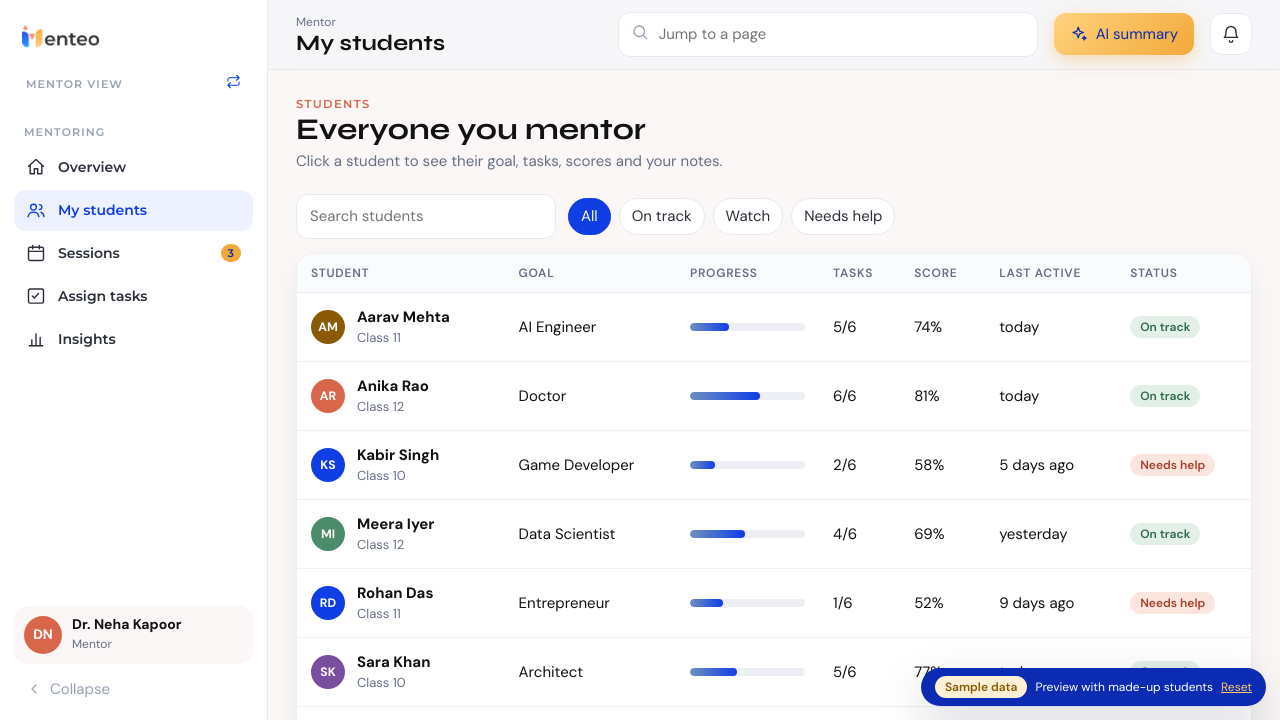
Test: platform dashboards › lets a mentor open a student and save a note
The width and height of the screenshot is (1280, 720).
Click the text "Kabir Singh" at (398, 455), box x1=357 y1=445 x2=439 y2=465
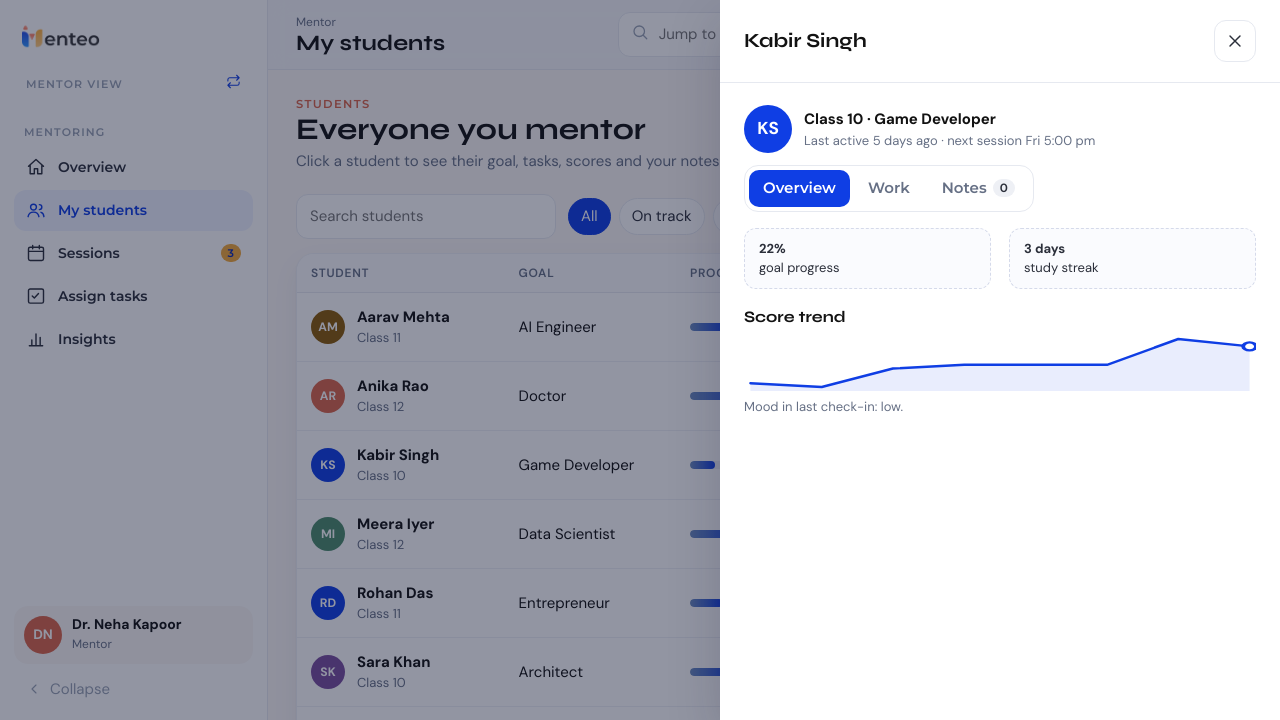
Click the tab "Notes 0" at (978, 188), box x1=928 y1=170 x2=1029 y2=206
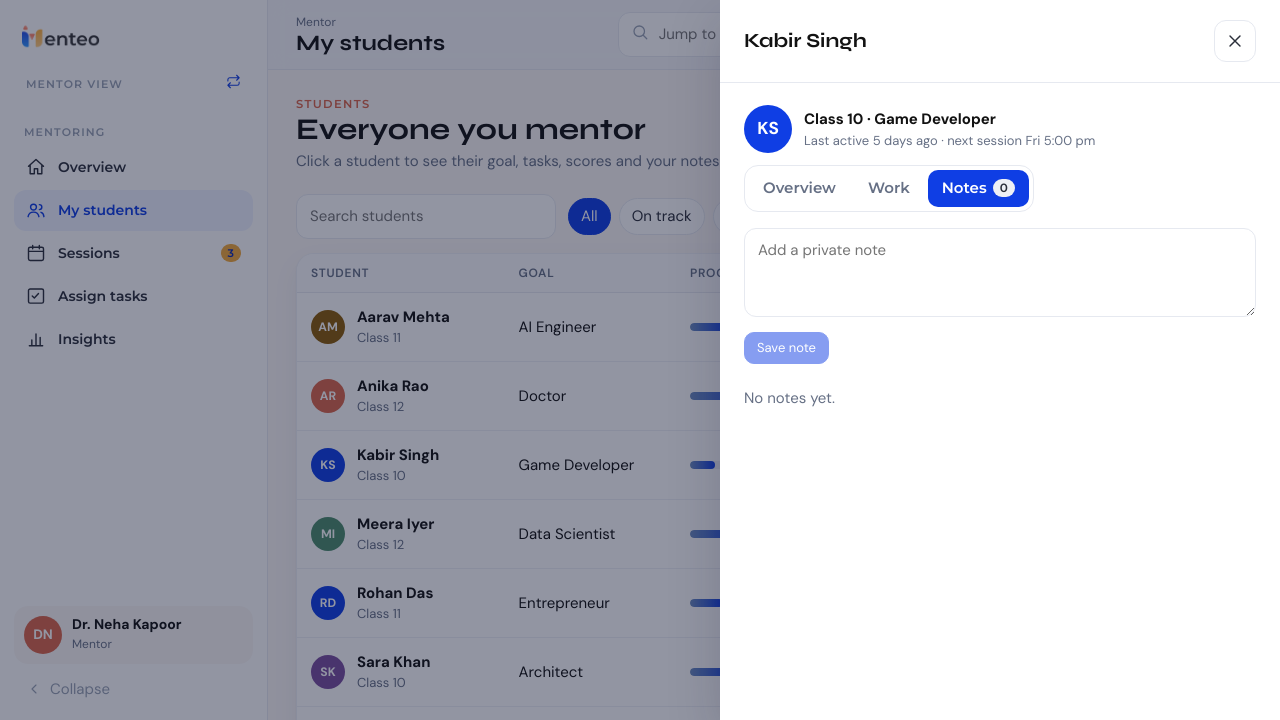
Type "Call parents" into the text box named "new note" at (1000, 272), box x1=744 y1=228 x2=1256 y2=317
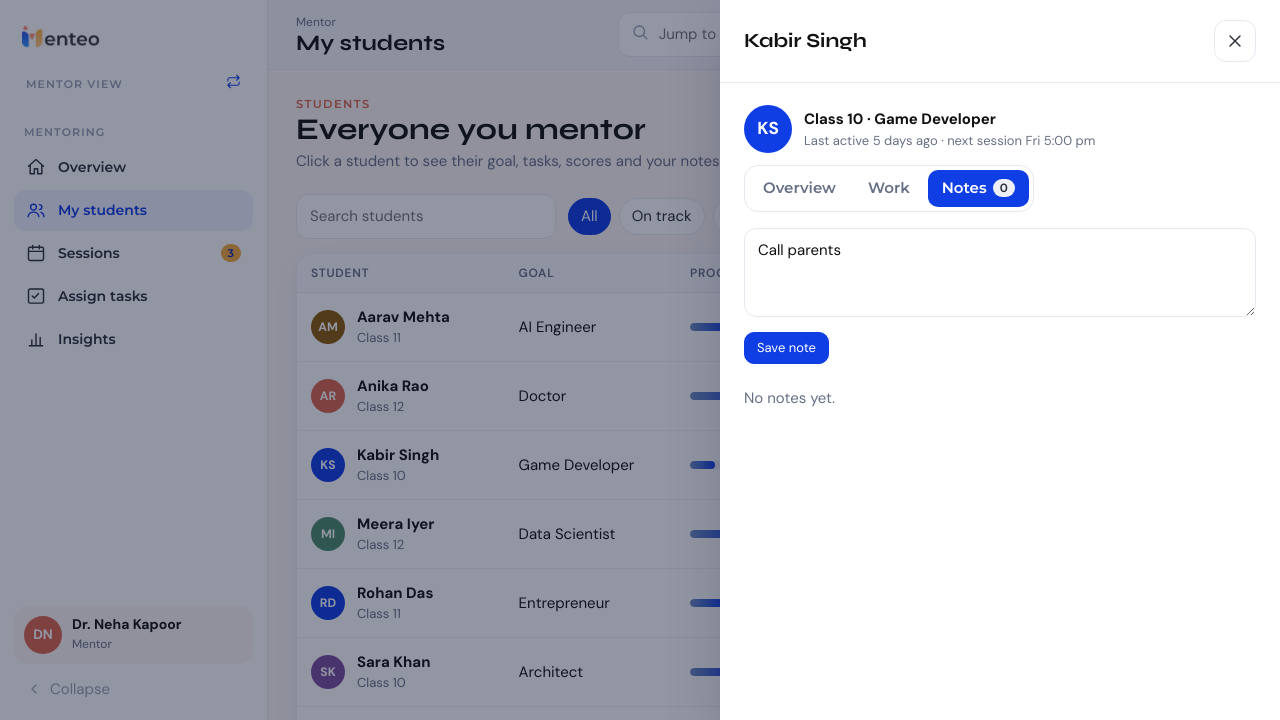
Click the button "Save note" at (786, 348), box x1=744 y1=332 x2=829 y2=364
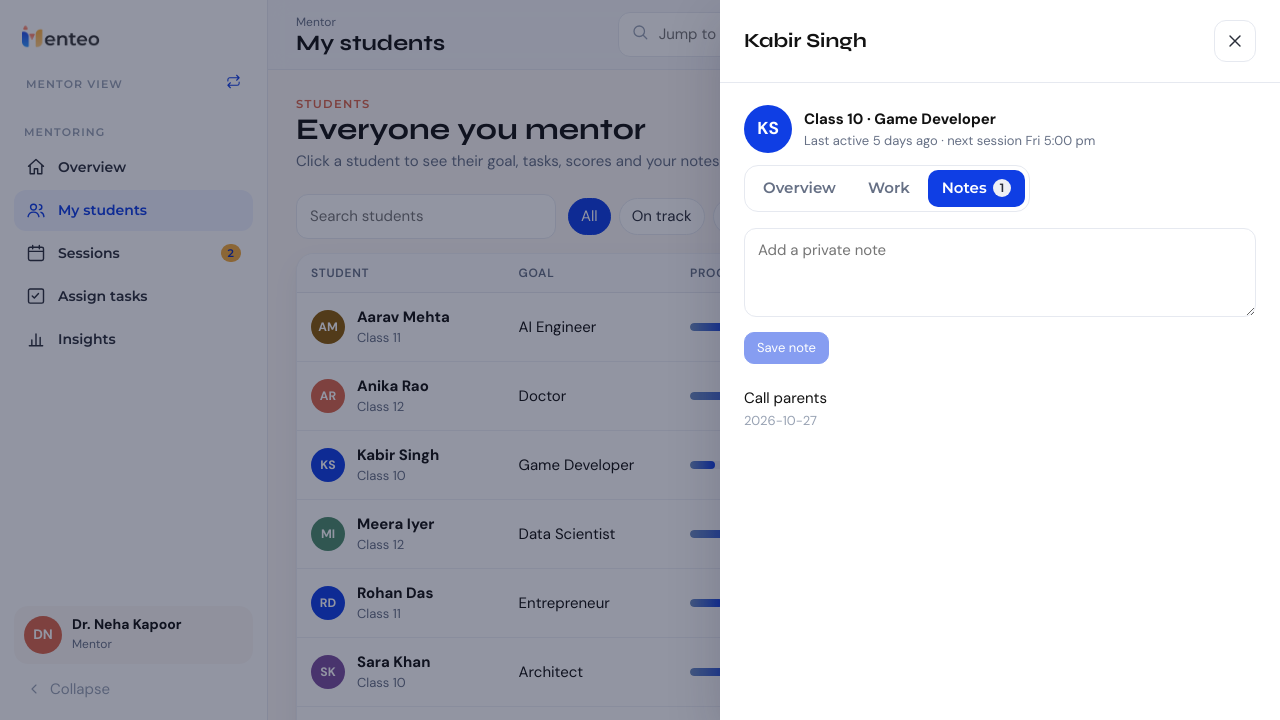
Now the text "Call parents" is shown, box x1=744 y1=388 x2=827 y2=408
